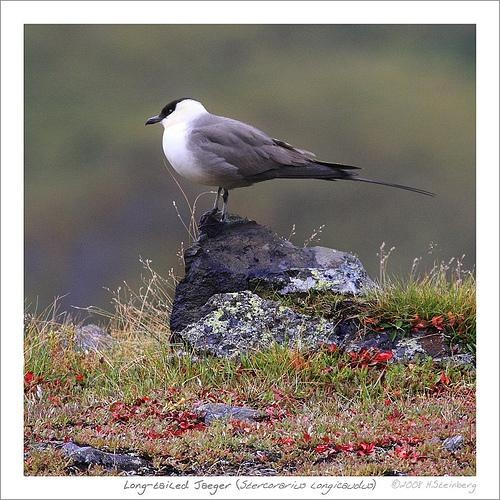bird: (146, 96, 440, 218)
